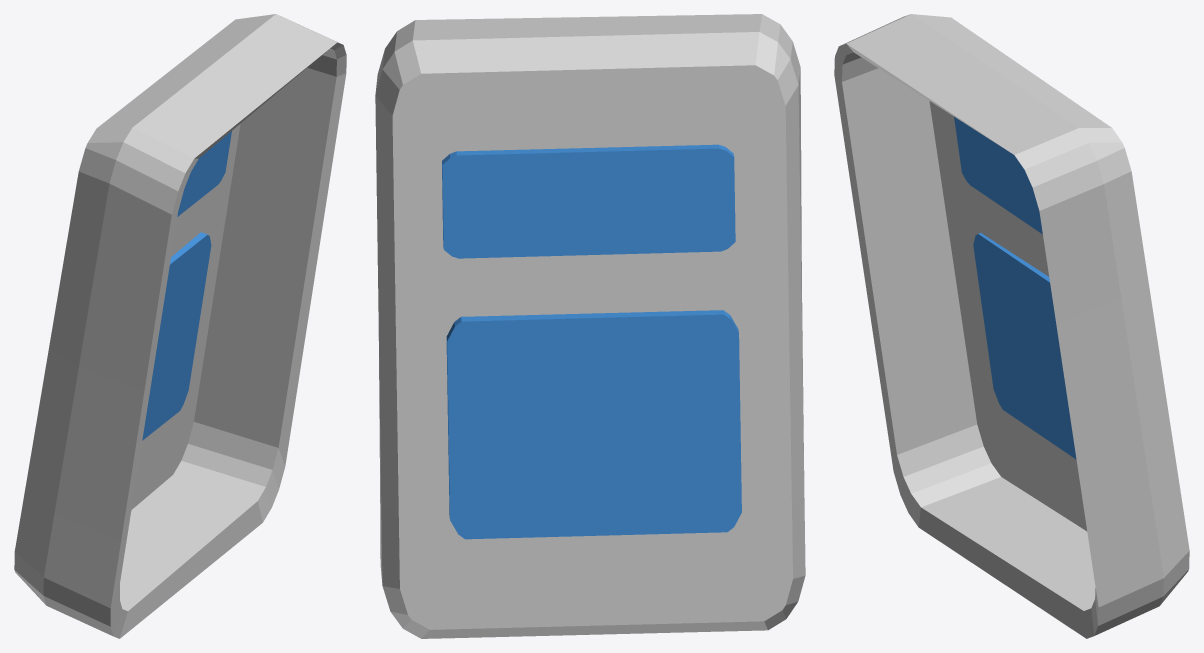
File: HangarDoor.fbx
The picture shows the model from 3 angles, left to right: view 1: azimuth 30°, elevation 25°; view 2: azimuth 150°, elevation 25°; view 3: azimuth 270°, elevation 25°; orthographic projection. The views are drawn at different scales.
Parts seen in each view (by area): view 1: HangarDoor; view 2: HangarDoor; view 3: HangarDoor.
Boxes of the visible parts, bbox=[...] form: HangarDoor: bbox=[14, 14, 346, 638]; HangarDoor: bbox=[375, 14, 805, 638]; HangarDoor: bbox=[834, 14, 1189, 638].
Bounding box in the file's own units: 3842 × 5352 × 3327.
